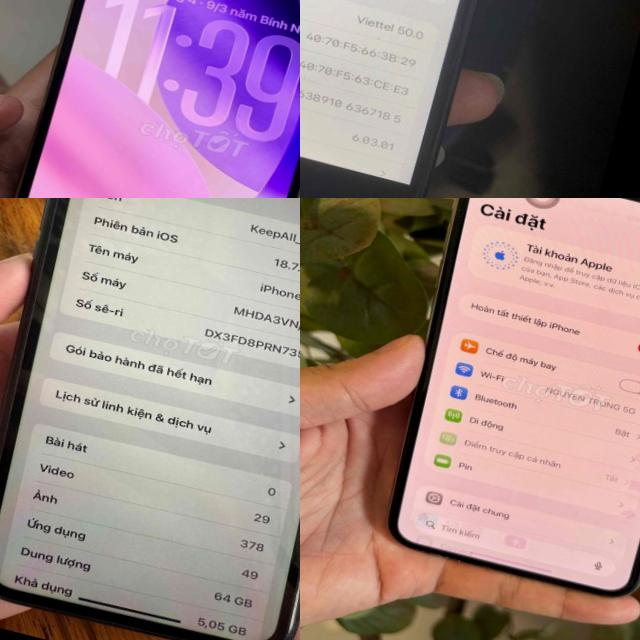scratch: (276, 479, 300, 640)
